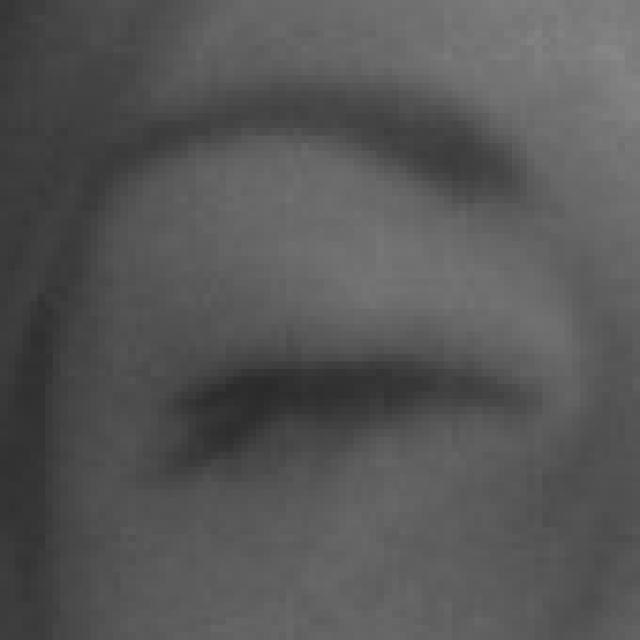Eyeclosed: (183, 278, 538, 570)
